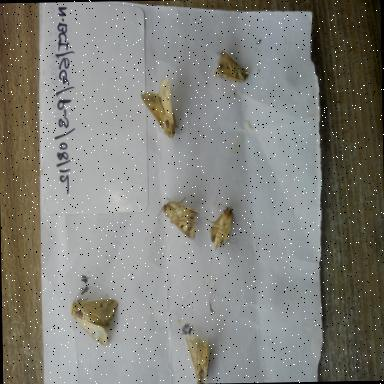abw: (62, 278, 122, 354), (138, 74, 182, 145), (152, 192, 202, 246), (201, 196, 242, 254), (207, 46, 255, 90), (180, 326, 216, 383)
